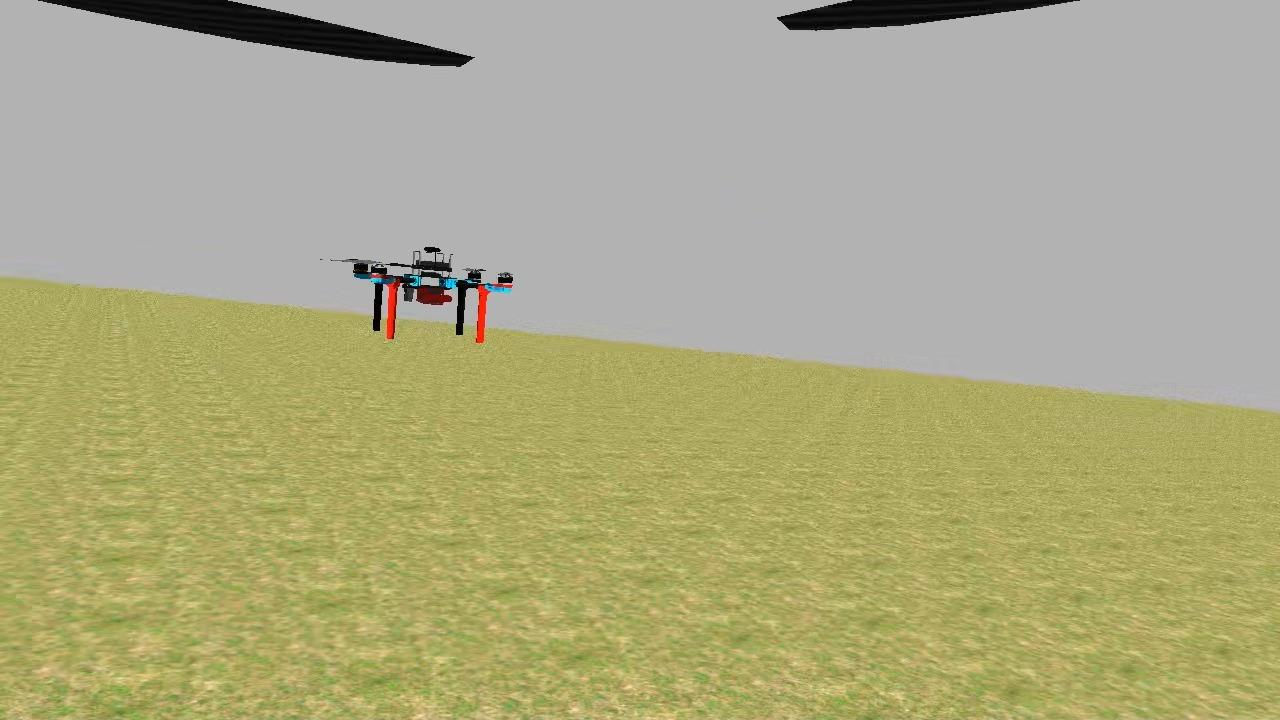UAV: (343, 240, 520, 347)
